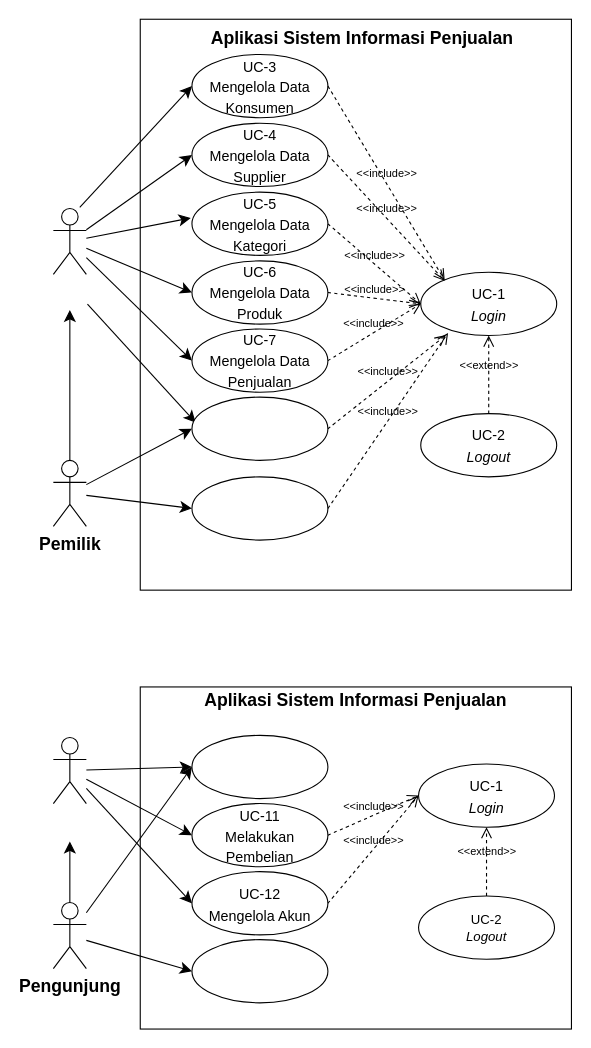
This 591x1048 diagram has some shape labels left out. The centre of each missing label's shape, as x and y in pixels:
Admin: point 69,240
Konsumen: point 69,770
UC-10 Melihat Informasi Produk: point 259,766
UC-13 Register: point 259,971
UC-8 Mencetak Laporan: point 259,428
UC-9 Mengelola Data User: point 259,508
